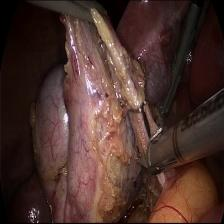Clipper: (129, 117, 187, 174)
Grasper: (158, 27, 196, 118), (36, 0, 112, 31)
